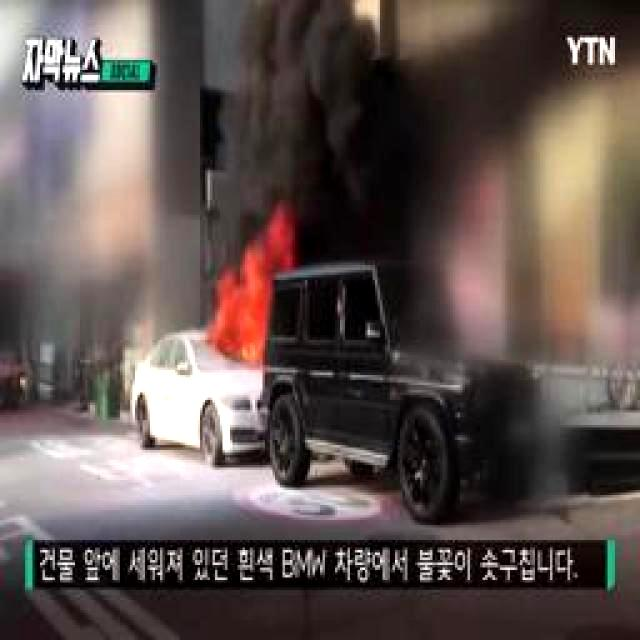fire: (218, 231, 294, 367)
